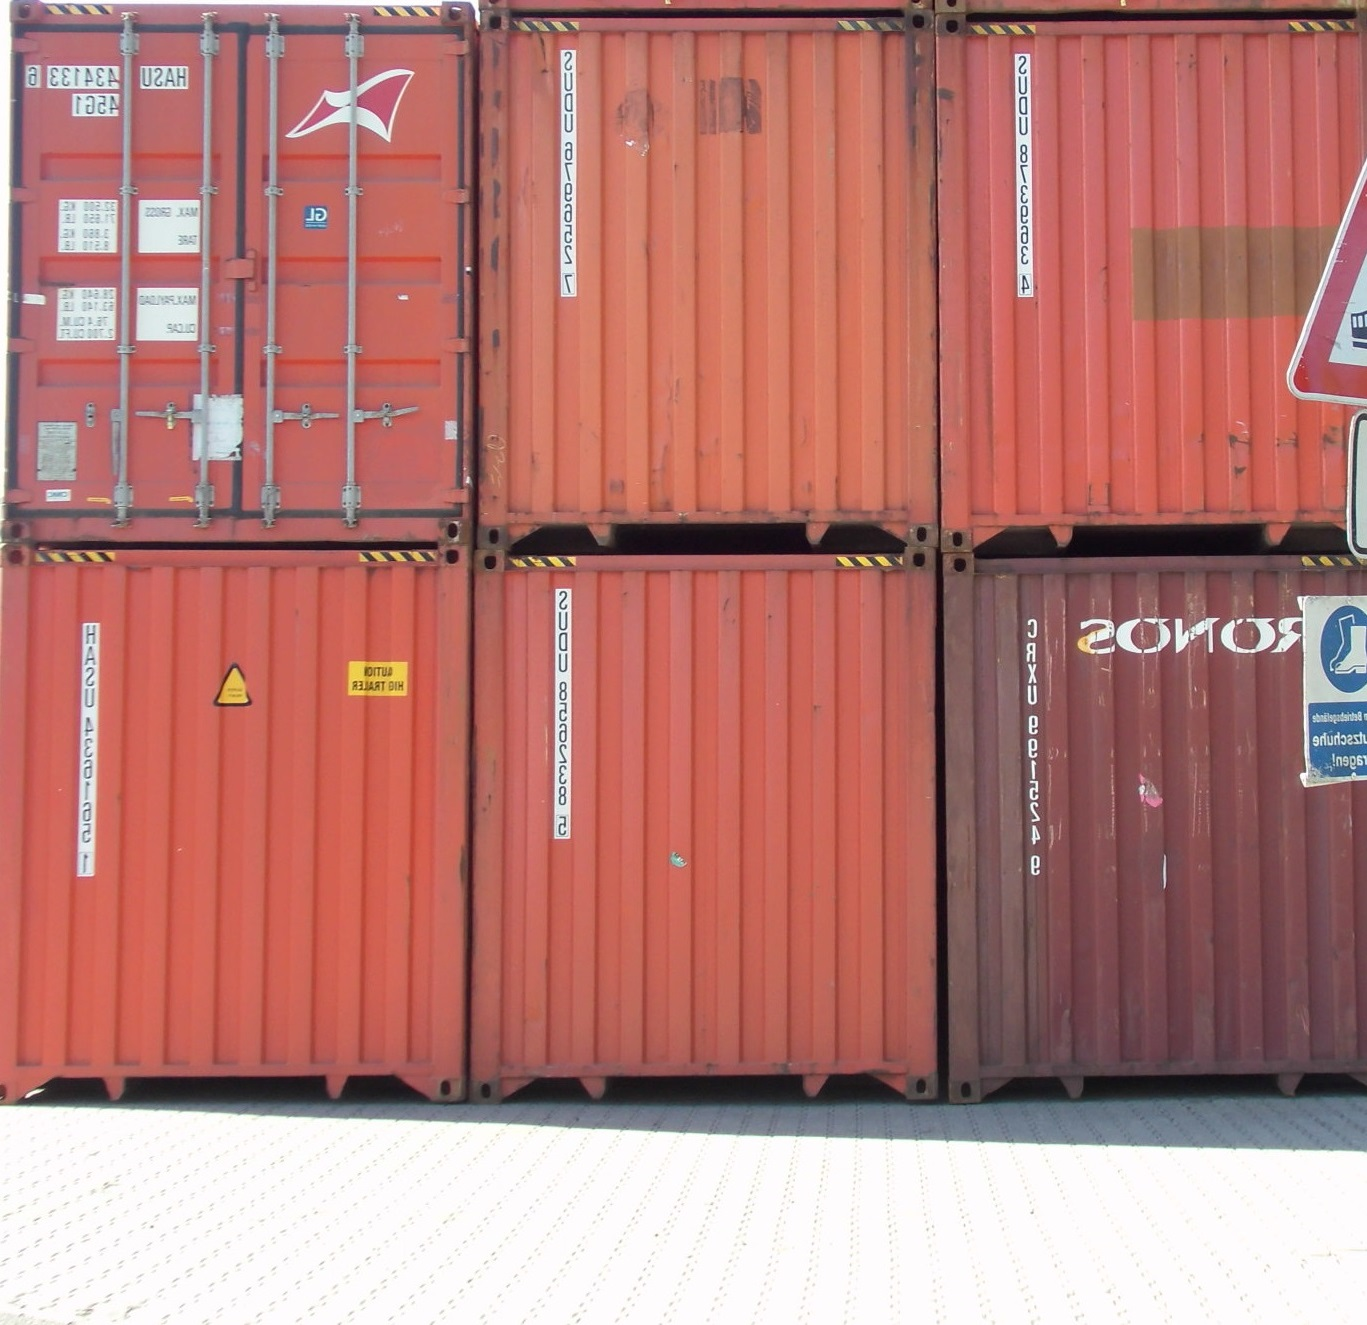container_door: (7, 6, 467, 547)
container_no_door: (465, 554, 941, 1102), (1, 551, 476, 1101), (465, 4, 941, 547), (945, 554, 1367, 1102), (945, 1, 1367, 548)
